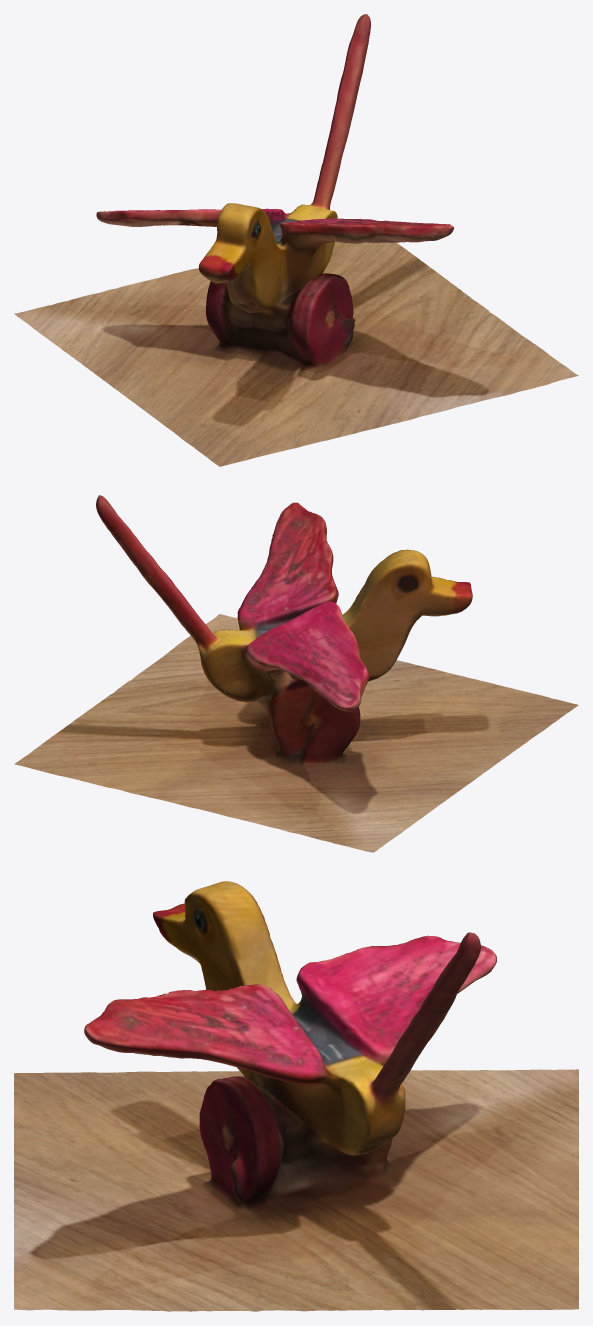
The model's file is 3DModel.obj.
The picture shows the model from 3 angles, top to bottom: view 1: azimuth 30°, elevation 25°; view 2: azimuth 150°, elevation 25°; view 3: azimuth 270°, elevation 25°; orthographic projection. The views are drawn at different scales.
Visible parts, largest first — view 1: 3DModel; view 2: 3DModel; view 3: 3DModel.
Part boxes in pixels (bbox=[...]): 3DModel: bbox=[14, 14, 578, 466]; 3DModel: bbox=[14, 495, 578, 852]; 3DModel: bbox=[14, 881, 578, 1311].
Bounding box in the file's own units: 0.7453 × 0.5052 × 0.7383.
1 material, 1 textured.
